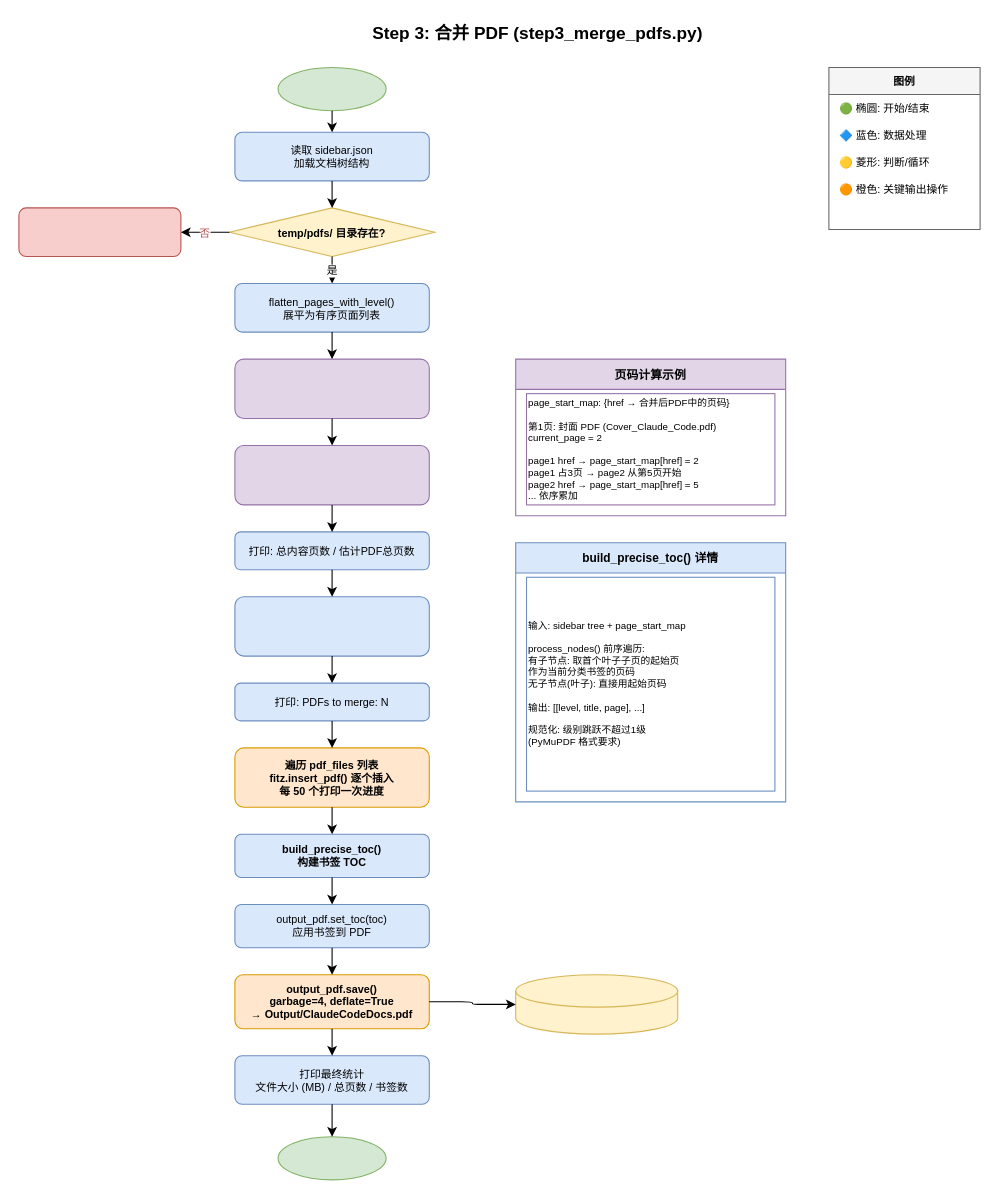
Some shapes in this 999 by 1199 pixel diagram are drawn without their labels. The shapes that lost their labels are listed below. From the top down, each one's centre as x and y in pixels, then its label:
At (x=331, y=88): "开始".
At (x=99, y=231): "Error: 目录不存在 提示运行 step2 sys.exit(1)".
At (x=331, y=388): "遍历每个页面, 统计 PDF 页数 fitz.open() → doc.page_count 建立 {href → 页数} 映射".
At (x=331, y=474): "计算每个页面的起始页码 current_page = 2 (封面占第1页) 累加 pdf_page_counts 得 offset".
At (x=331, y=626): "收集待合并的 PDF 文件列表 ① 封面 PDF (如存在) ② 按 sidebar.json 顺序添加页 PDF".
At (x=596, y=1004): "Output/ClaudeCodeDocs.pdf 带书签/目录的最终 PDF".
At (x=331, y=1158): "完成".
